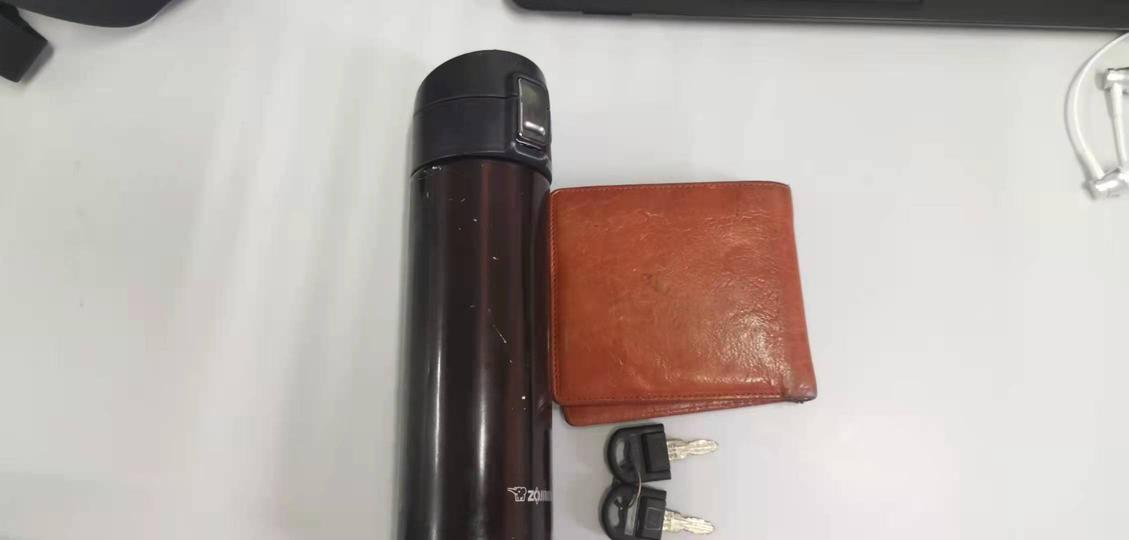cup: (391, 47, 561, 529)
key: (596, 421, 722, 534)
wallet: (526, 180, 820, 420)
